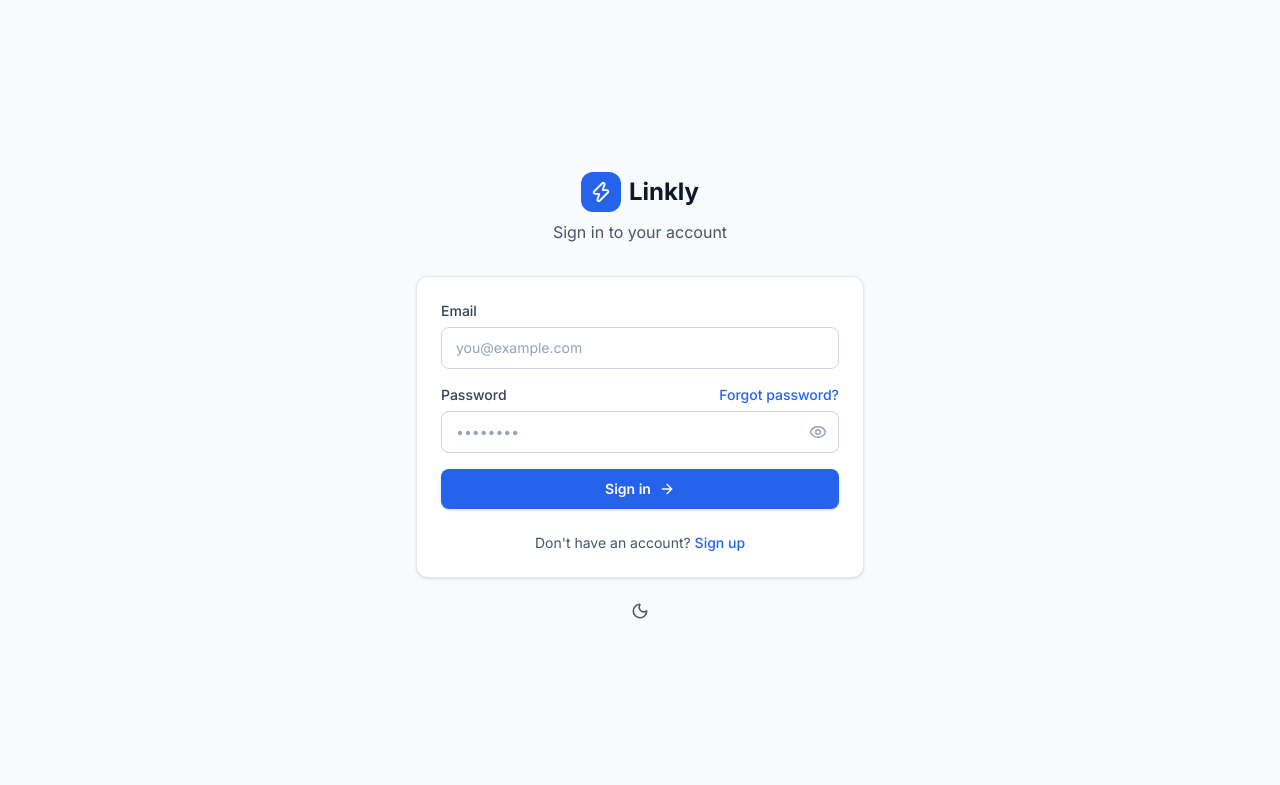
it: public routes › signs in and opens the dashboard
Type "a@b.co" into the field with placeholder "you@example.com" at (640, 348), box [441,327,839,369]
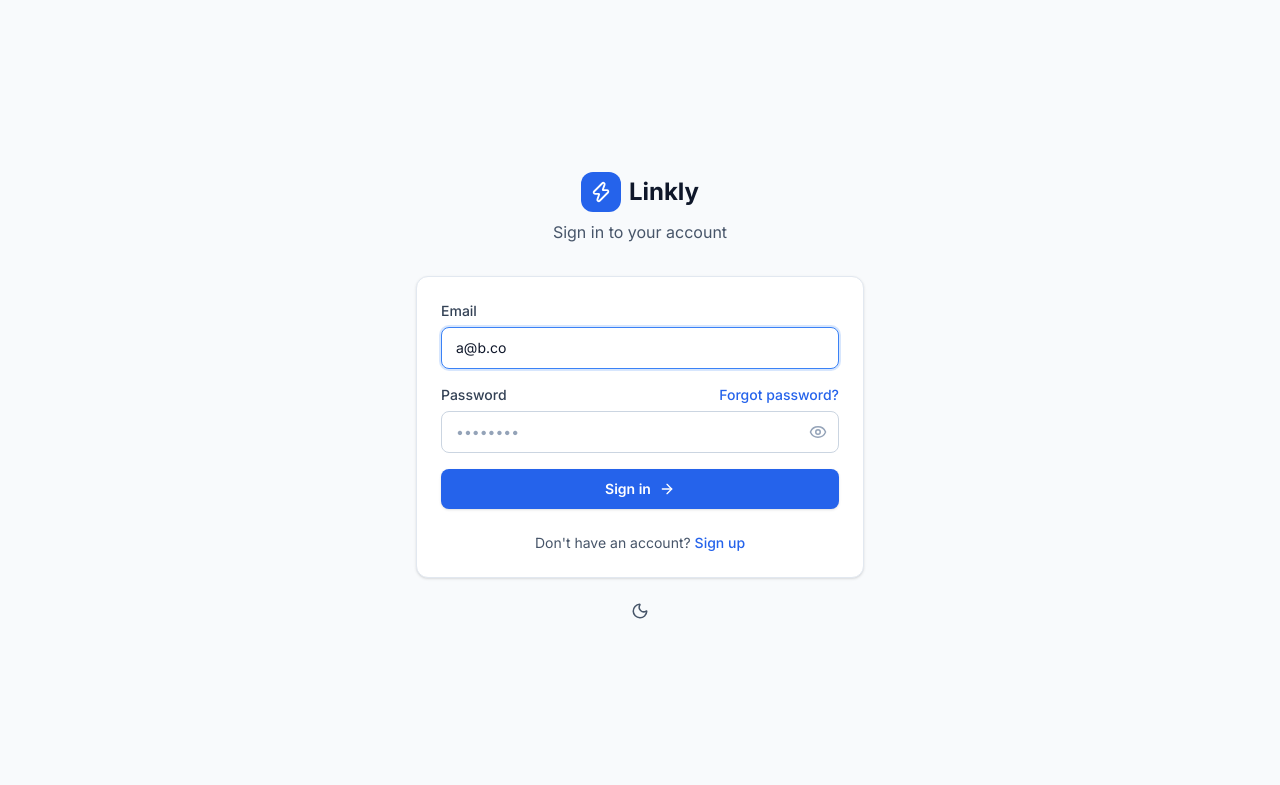
Type "secret123" into the password field with placeholder "••••••••" at (640, 432), box [441,411,839,453]
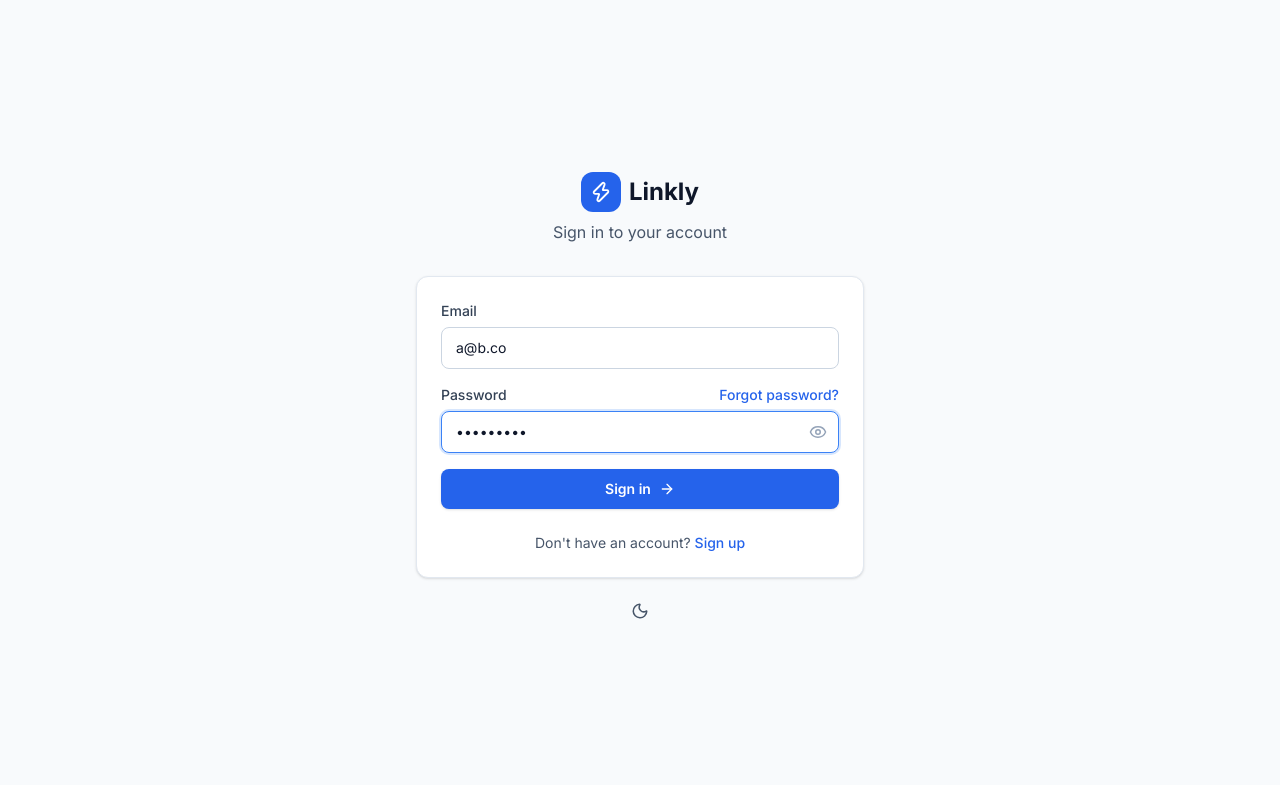
Click the button "Sign in" at (640, 489), box [441,469,839,509]
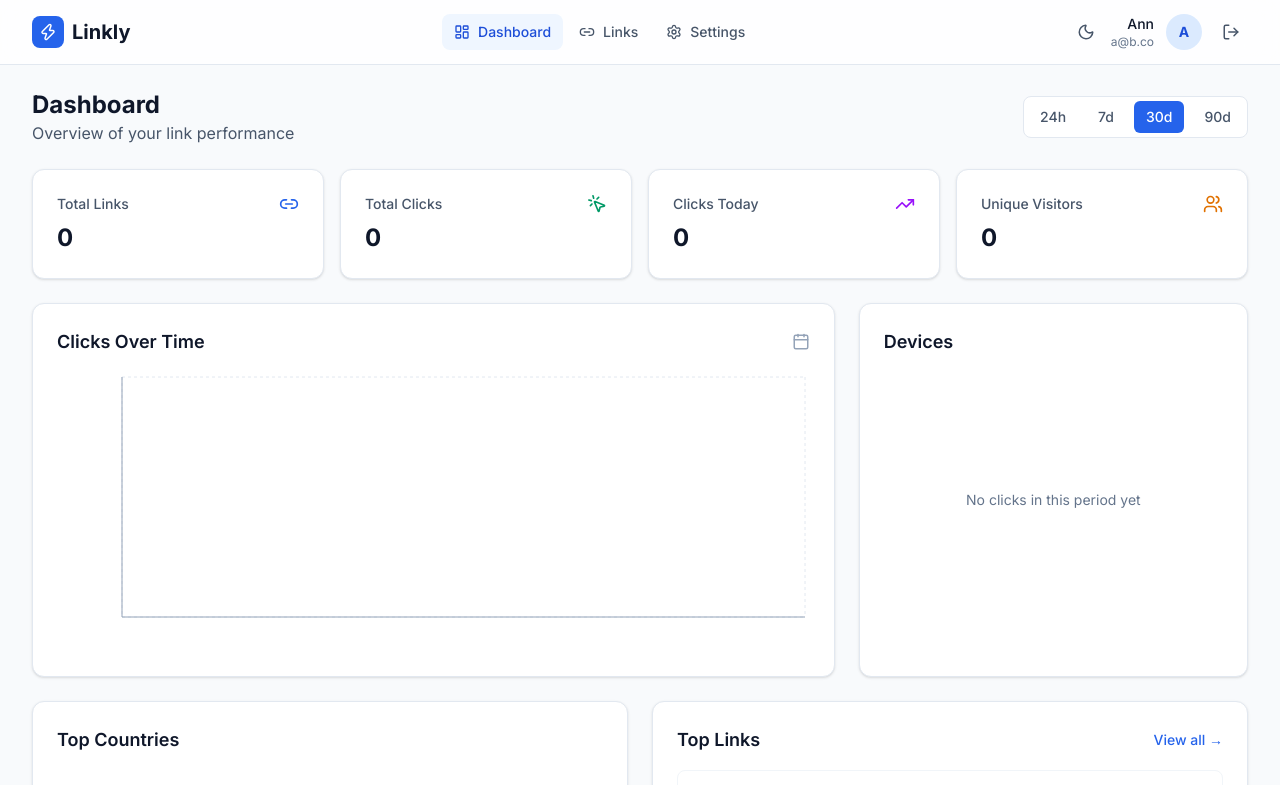
Now the heading "Dashboard" is shown, box [32,90,160,119]
